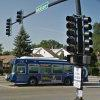Traffic light: (59, 7, 100, 69)
